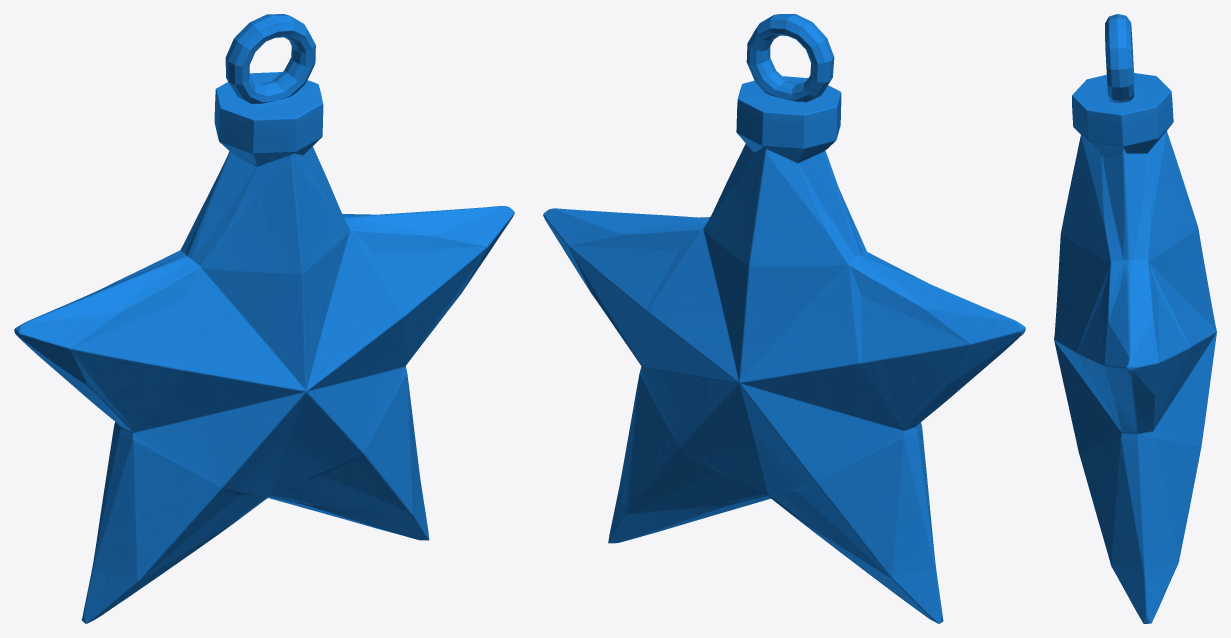
Rendered from star-web.glb.
The picture shows the model from 3 angles, left to right: view 1: azimuth 30°, elevation 25°; view 2: azimuth 150°, elevation 25°; view 3: azimuth 270°, elevation 25°; orthographic projection. The views are drawn at different scales.
Parts seen in each view (by area): view 1: 5d9253398c9e4efc349569ffd16b8340; view 2: 5d9253398c9e4efc349569ffd16b8340; view 3: 5d9253398c9e4efc349569ffd16b8340.
Part boxes in pixels (x1,y1,x2,y2): 5d9253398c9e4efc349569ffd16b8340: (14, 14, 514, 623); 5d9253398c9e4efc349569ffd16b8340: (543, 14, 1025, 623); 5d9253398c9e4efc349569ffd16b8340: (1054, 14, 1216, 623).
Size of the model in its own units: 33.58 by 37.3 by 10.41.
